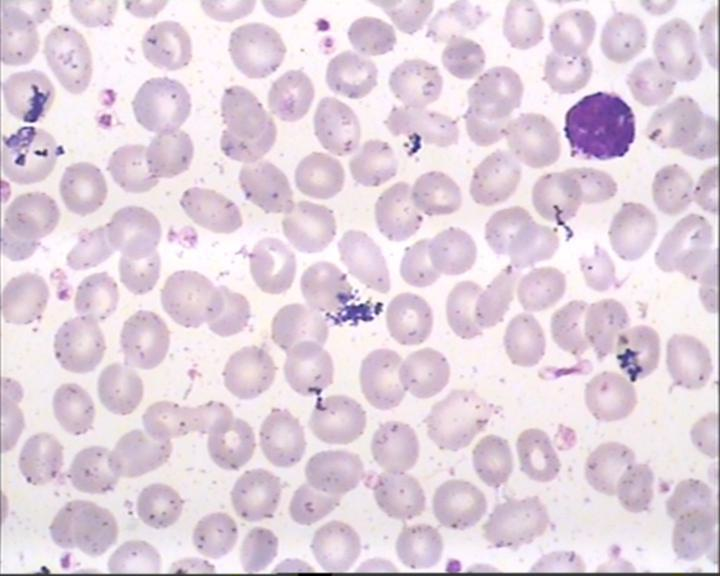baso: (557, 86, 641, 164)
